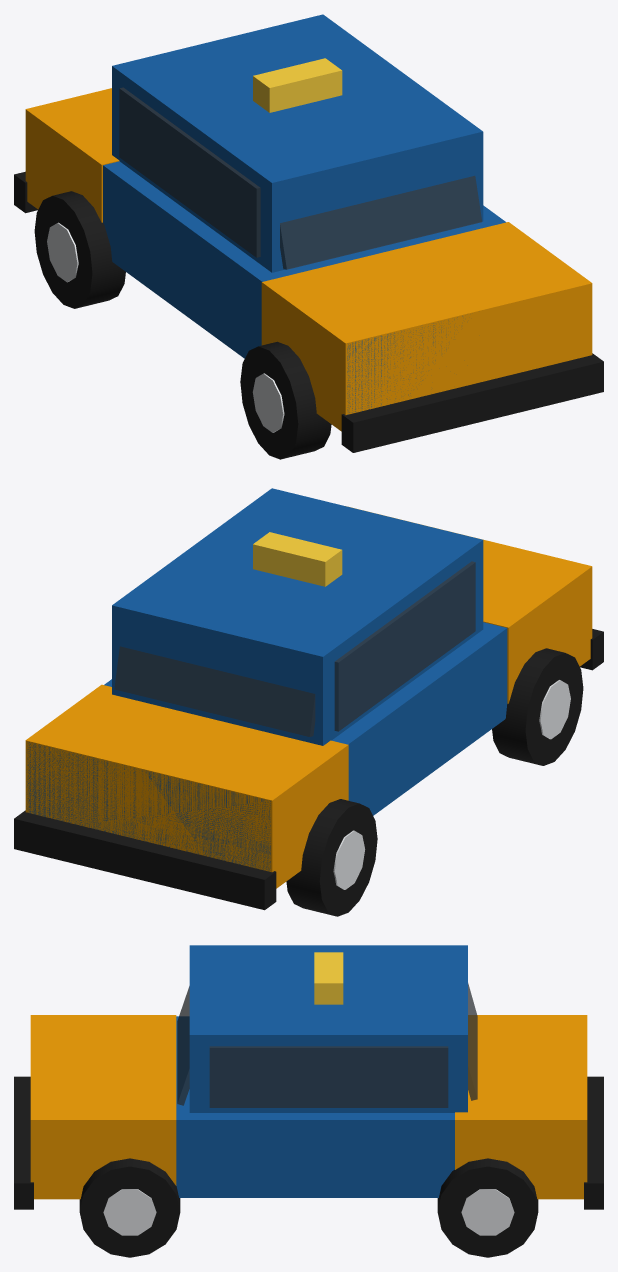
File: taxi.glb
3 renders of one model, top to bottom at view 1: azimuth 30°, elevation 25°; view 2: azimuth 150°, elevation 25°; view 3: azimuth 270°, elevation 25°, orthographic. The views are drawn at different scales.
Visible parts, largest first — view 1: GhanaTaxi; view 2: GhanaTaxi; view 3: GhanaTaxi.
Part boxes in pixels (bbox=[...]): GhanaTaxi: bbox=[14, 14, 603, 459]; GhanaTaxi: bbox=[14, 488, 603, 916]; GhanaTaxi: bbox=[14, 945, 603, 1257].
Bounding box in the file's own units: 2.18 × 1.91 × 4.45.
